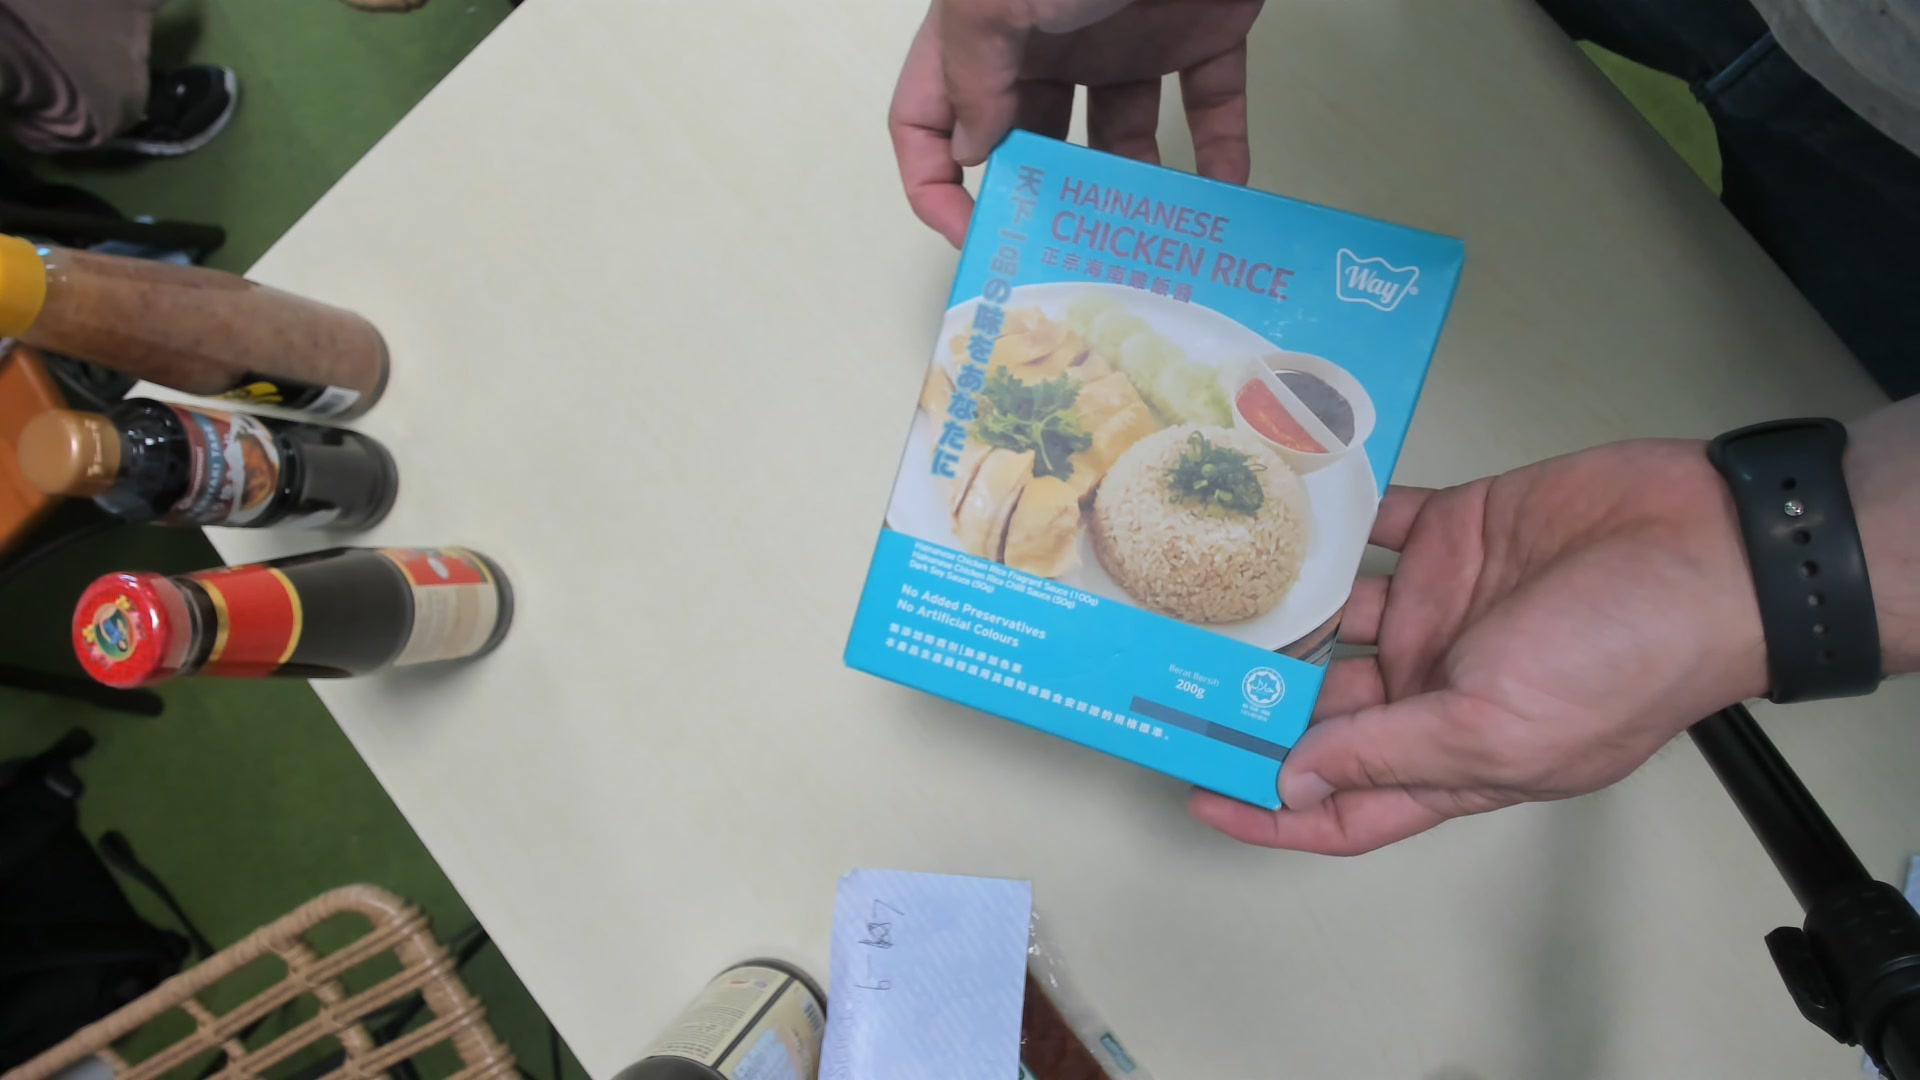OtherSauceDressingSoupbasePaste_200-299g_Halal_NonHealthy: (849, 135, 1462, 814)
